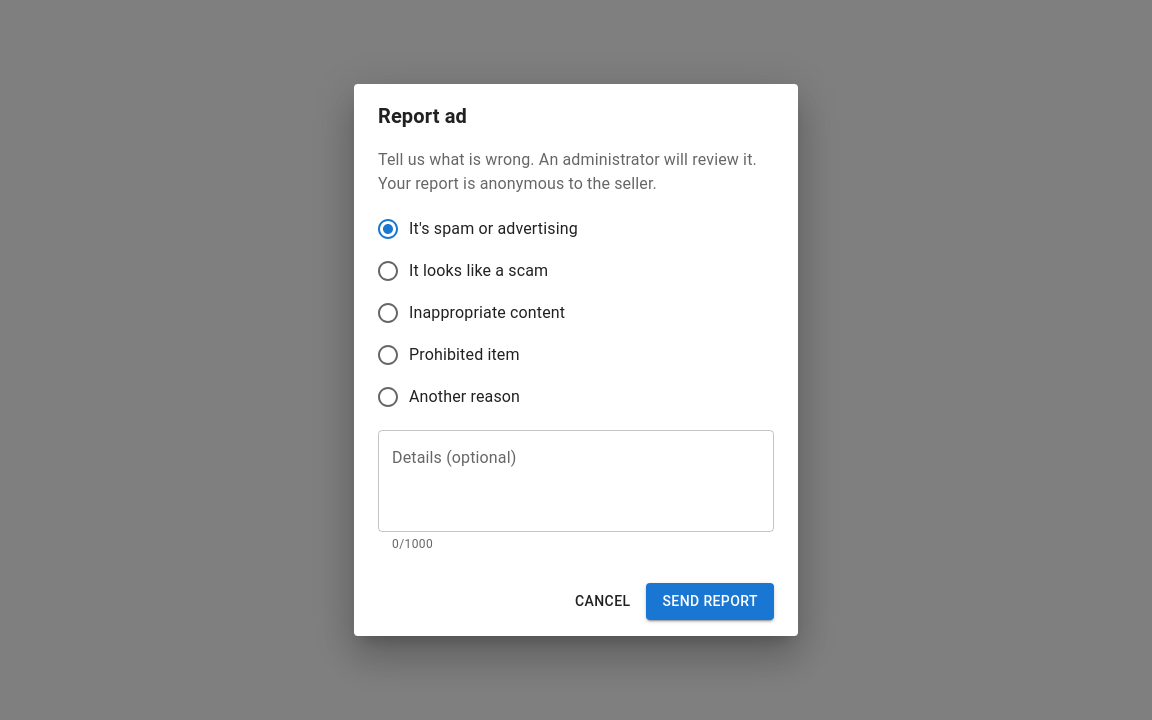
Test: ReportDialog › "other" needs an explanation before it can be sent
Click the radio button labelled "Another reason": (448, 397) [376, 385, 520, 409]
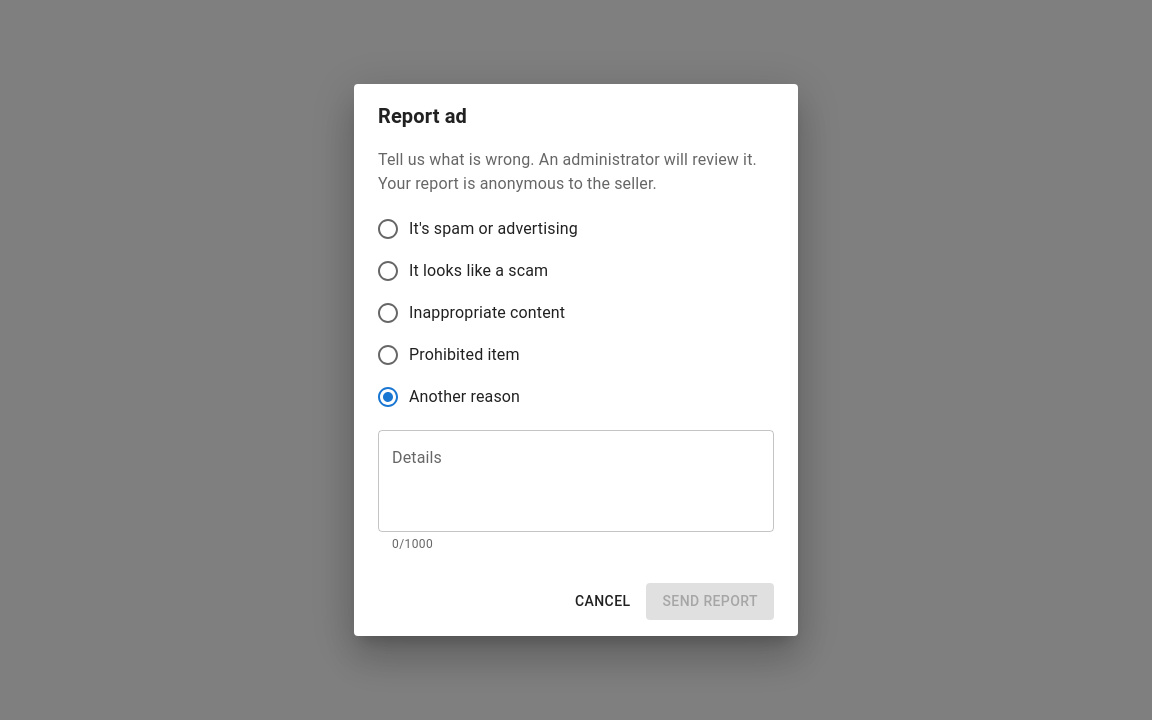
Now the button "Send report" is disabled, box [646, 583, 774, 620]
In the text box: (576, 481) [392, 447, 760, 516], type "Something odd"
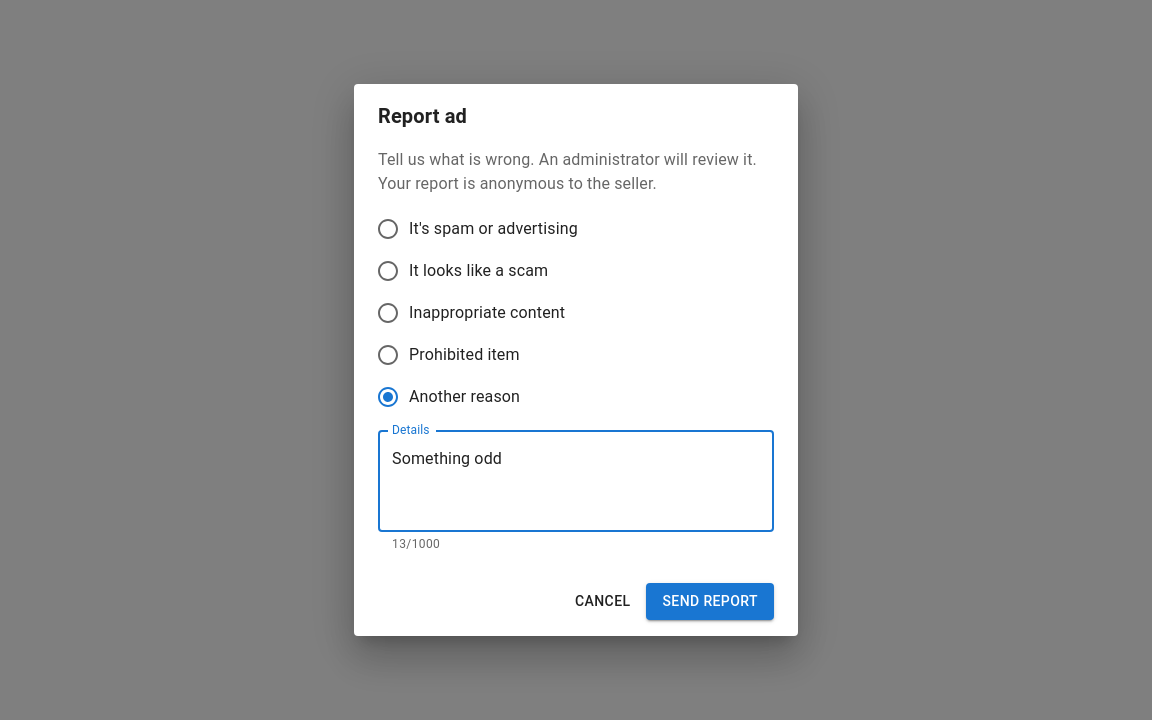
Now the button "Send report" is enabled, box [646, 583, 774, 620]
